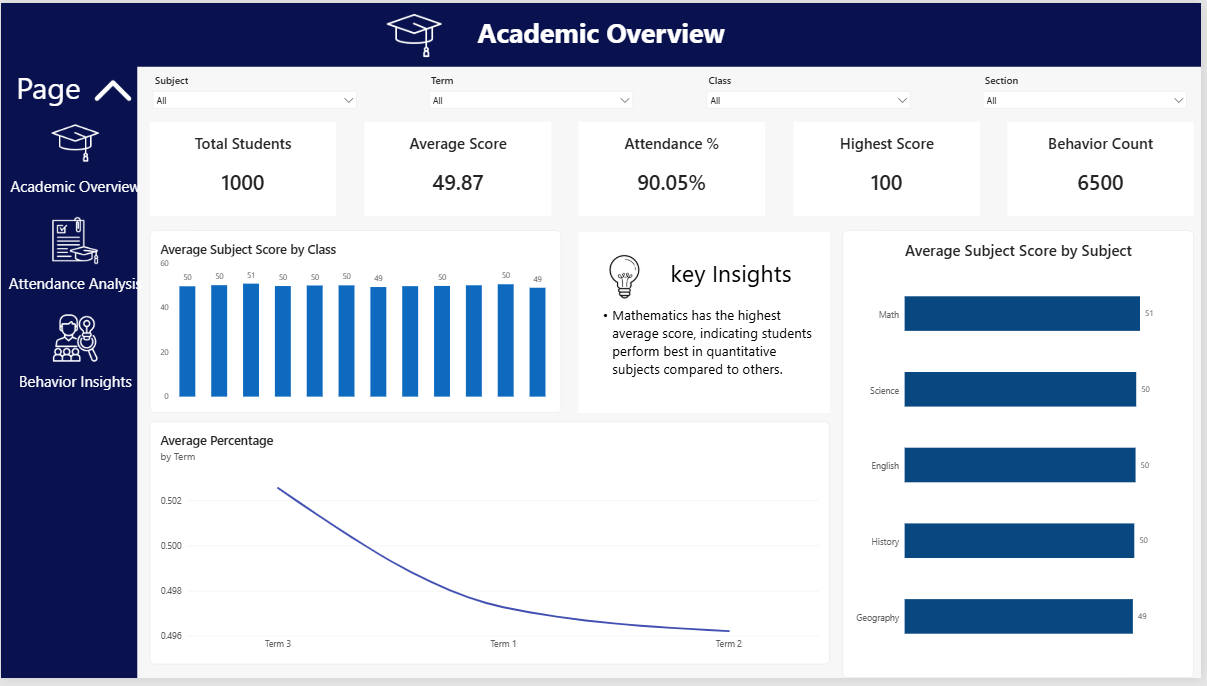

This screenshot's page, from the dashboard's own definition file:
{"tool":"powerbi","page":{"name":"Academic Overview","canvas":[1920,1080],"ordinal":0},"visuals":[{"type":"shape","box":[0,0,1920,102],"z":0,"group":"g15"},{"type":"shape","box":[0,0,218,1080],"z":0,"group":"g14"},{"type":"slicer","fields":{"Values":["Scores.Subject"]},"box":[238,112,336,64],"z":0,"group":"g6"},{"type":"image","box":[64,186,110,76],"z":0,"group":"g7"},{"type":"group","id":"g1","title":"KPI","box":[238,190,1670,152],"z":0},{"type":"shape","box":[238,190,298.7,151.5],"z":0,"group":"g2"},{"type":"group","id":"g2","title":"Total students","box":[238,190,298,152],"z":0,"group":"g1"},{"type":"shape","box":[581,190,298.7,151.5],"z":0,"group":"g9"},{"type":"shape","box":[924,190,298.7,151.5],"z":0,"group":"g3"},{"type":"shape","box":[1267,190,298.7,151.5],"z":0,"group":"g8"},{"type":"shape","box":[1610,190,298.7,151.5],"z":0,"group":"g5"},{"type":"image","box":[64,342,110,76],"z":0,"group":"g10"},{"type":"clusteredBarChart","fields":{"Category":["Scores.Subject"],"Y":["Measures Table.Average Subject Score"]},"box":[1346,364,562,716],"z":0,"group":"g12"},{"type":"shape","box":[924,366,402,290],"z":0,"group":"g11"},{"type":"image","box":[64,498,110,76],"z":0,"group":"g13"},{"type":"textbox","box":[746,18,428,70],"z":1000,"group":"g15"},{"type":"image","title":"up","box":[120,98,118,88],"z":1000,"group":"g4"},{"type":"textbox","box":[10,102,132,78],"z":1000,"group":"g14"},{"type":"slicer","fields":{"Values":["Scores.Term"]},"box":[680.7,112,336,64],"z":1000,"group":"g6"},{"type":"group","id":"g3","title":"Attendance %","box":[924,190,298,152],"z":1000,"group":"g1"},{"type":"cardVisual","title":"Total Students","fields":{"Data":["Measures Table.Total Students"]},"box":[238,207.3,298.7,110.4],"z":1000,"group":"g2"},{"type":"cardVisual","title":"Average Score","fields":{"Data":["Measures Table.Average Score"]},"box":[581,207.3,298.7,110.4],"z":1000,"group":"g9"},{"type":"cardVisual","title":"Attendance %","fields":{"Data":["Measures Table.Attendance %"]},"box":[924,207.3,298.7,110.4],"z":1000,"group":"g3"},{"type":"cardVisual","title":" Highest Score","fields":{"Data":["Measures Table.Highest Score"]},"box":[1267,207.3,298.7,110.4],"z":1000,"group":"g8"},{"type":"cardVisual","title":"Behavior Count","fields":{"Data":["Measures Table.Behavior Count"]},"box":[1610,207.3,298.7,110.4],"z":1000,"group":"g5"},{"type":"textbox","box":[10,276,218,52],"z":1000,"group":"g7"},{"type":"clusteredColumnChart","fields":{"Category":["Students.Class"],"Y":["Measures Table.Average Subject Score"]},"box":[238,364,658,292],"z":1000,"group":"g12"},{"type":"textbox","box":[1032,406,272,52],"z":1000,"group":"g11"},{"type":"textbox","box":[10,432,218,52],"z":1000,"group":"g10"},{"type":"textbox","box":[10,588,218,52],"z":1000,"group":"g13"},{"type":"image","box":[602,8,118,88],"z":2000,"group":"g15"},{"type":"group","id":"g4","title":"Navigation","box":[120,98,118,92],"z":2000,"group":"g14"},{"type":"slicer","fields":{"Values":["Students.Class"]},"box":[1123.3,112,336,64],"z":2000,"group":"g6"},{"type":"actionButton","box":[10,186,218,142],"z":2000,"group":"g7"},{"type":"group","id":"g5","title":"Behavior Count","box":[1610,190,298,152],"z":2000,"group":"g1"},{"type":"actionButton","box":[20,328,218,142],"z":2000,"group":"g10"},{"type":"image","box":[946,392,102,92],"z":2000,"group":"g11"},{"type":"actionButton","box":[10,484,218,142],"z":2000,"group":"g13"},{"type":"lineChart","fields":{"Category":["Scores.Term"],"Y":["Measures Table.Average Percentage"]},"box":[238,670,1088,388],"z":2000,"group":"g12"},{"type":"group","id":"g6","title":"Slicers","box":[238,112,1664,64],"z":3000},{"type":"slicer","fields":{"Values":["Students.Section"]},"box":[1566,112,336,64],"z":3000,"group":"g6"},{"type":"group","id":"g7","title":"Academic Overview","box":[10,186,218,142],"z":3000,"group":"g14"},{"type":"group","id":"g8","title":" Highest Score","box":[1267,190,298,152],"z":3000,"group":"g1"},{"type":"textbox","box":[946,484,358,156],"z":3000,"group":"g11"},{"type":"group","id":"g9","title":"Average Score","box":[581,190,298,152],"z":4000,"group":"g1"},{"type":"group","id":"g10","title":"Attendance analysis","box":[10,328,228,156],"z":4000,"group":"g14"},{"type":"group","id":"g11","title":"Key Insights","box":[924,366,402,290],"z":4000},{"type":"group","id":"g12","title":"Visuals","box":[238,364,1670,716],"z":5000},{"type":"group","id":"g13","title":"Behaviour Insights","box":[10,484,218,156],"z":5000,"group":"g14"},{"type":"group","id":"g14","title":"Side bar","box":[0,0,238,1080],"z":5250},{"type":"group","id":"g15","title":"top bar","box":[0,0,1920,102],"z":5500}]}

Visuals, with their boxes on the page's 1920x1080 design canvas (x1, y1, x2, y2). These are canvas units, not pixel positions in the 1207x686 screenshot, which may show the page scaled, cropped or inside an application window:
shape: (0, 0, 1920, 102)
shape: (0, 0, 218, 1080)
slicer - Scores.Subject: (238, 112, 574, 176)
image: (64, 186, 174, 262)
"KPI" group: (238, 190, 1908, 342)
shape: (238, 190, 537, 342)
"Total students" group: (238, 190, 536, 342)
shape: (581, 190, 880, 342)
shape: (924, 190, 1223, 342)
shape: (1267, 190, 1566, 342)
shape: (1610, 190, 1909, 342)
image: (64, 342, 174, 418)
clusteredBarChart - Scores.Subject x Measures Table.Average Subject Score: (1346, 364, 1908, 1080)
shape: (924, 366, 1326, 656)
image: (64, 498, 174, 574)
textbox: (746, 18, 1174, 88)
"up" image: (120, 98, 238, 186)
textbox: (10, 102, 142, 180)
slicer - Scores.Term: (681, 112, 1017, 176)
"Attendance %" group: (924, 190, 1222, 342)
"Total Students" cardVisual: (238, 207, 537, 318)
"Average Score" cardVisual: (581, 207, 880, 318)
"Attendance %" cardVisual: (924, 207, 1223, 318)
" Highest Score" cardVisual: (1267, 207, 1566, 318)
"Behavior Count" cardVisual: (1610, 207, 1909, 318)
textbox: (10, 276, 228, 328)
clusteredColumnChart - Students.Class x Measures Table.Average Subject Score: (238, 364, 896, 656)
textbox: (1032, 406, 1304, 458)
textbox: (10, 432, 228, 484)
textbox: (10, 588, 228, 640)
image: (602, 8, 720, 96)
"Navigation" group: (120, 98, 238, 190)
slicer - Students.Class: (1123, 112, 1459, 176)
actionButton: (10, 186, 228, 328)
"Behavior Count" group: (1610, 190, 1908, 342)
actionButton: (20, 328, 238, 470)
image: (946, 392, 1048, 484)
actionButton: (10, 484, 228, 626)
lineChart - Scores.Term x Measures Table.Average Percentage: (238, 670, 1326, 1058)
"Slicers" group: (238, 112, 1902, 176)
slicer - Students.Section: (1566, 112, 1902, 176)
"Academic Overview" group: (10, 186, 228, 328)
" Highest Score" group: (1267, 190, 1565, 342)
textbox: (946, 484, 1304, 640)
"Average Score" group: (581, 190, 879, 342)
"Attendance analysis" group: (10, 328, 238, 484)
"Key Insights" group: (924, 366, 1326, 656)
"Visuals" group: (238, 364, 1908, 1080)
"Behaviour Insights" group: (10, 484, 228, 640)
"Side bar" group: (0, 0, 238, 1080)
"top bar" group: (0, 0, 1920, 102)
